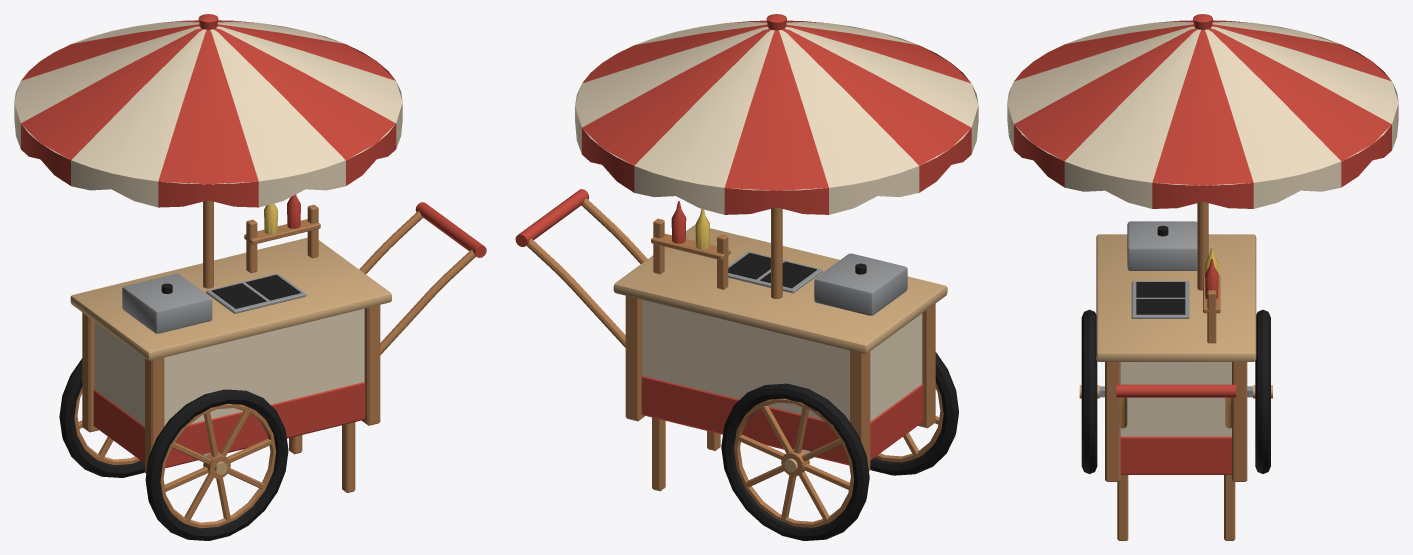
The model's file is VendorCart.fbx.
The picture shows the model from 3 angles, left to right: view 1: azimuth 30°, elevation 25°; view 2: azimuth 150°, elevation 25°; view 3: azimuth 270°, elevation 25°; orthographic projection. The views are drawn at different scales.
Visible parts, largest first — view 1: VendorCart_Mesh; view 2: VendorCart_Mesh; view 3: VendorCart_Mesh.
Boxes of the visible parts, x1=… form: VendorCart_Mesh: x1=14, y1=14, x2=486, y2=540; VendorCart_Mesh: x1=515, y1=14, x2=978, y2=540; VendorCart_Mesh: x1=1007, y1=14, x2=1398, y2=540.
Size of the model in its own units: 2.11 by 2.36 by 1.76.
